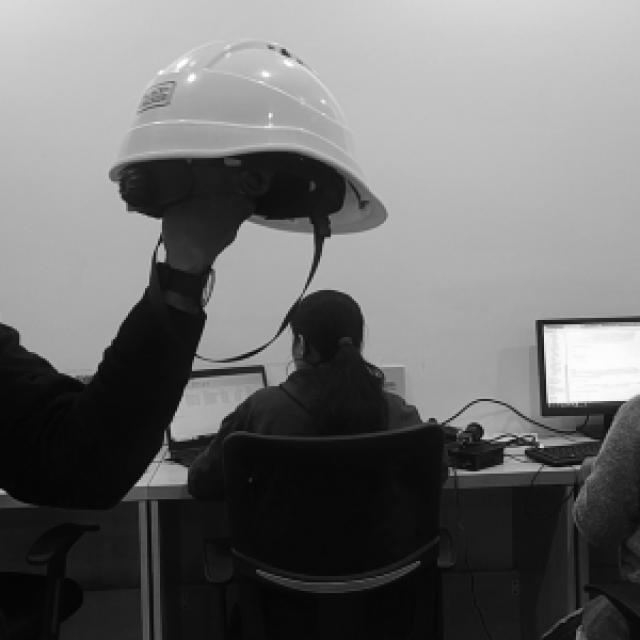safety_helmet: (111, 42, 390, 234)
